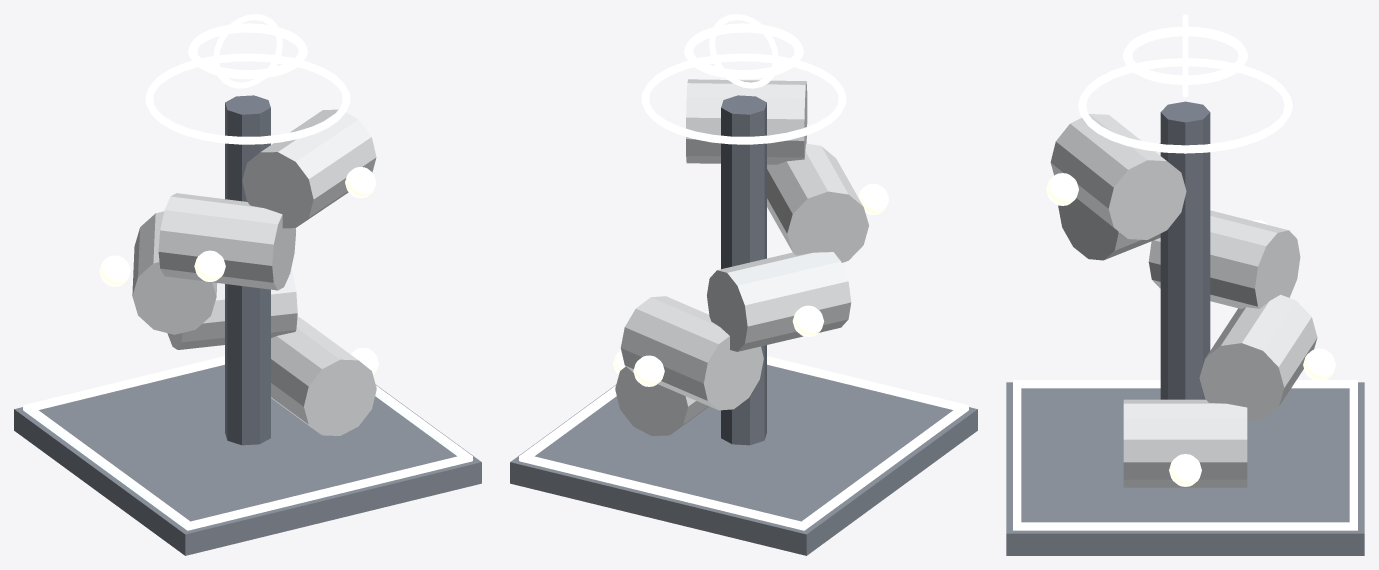
Rendered from staff_housing.glb.
3 renders of one model, left to right at view 1: azimuth 30°, elevation 25°; view 2: azimuth 150°, elevation 25°; view 3: azimuth 270°, elevation 25°, orthographic. The views are drawn at different scales.
Parts seen in each view (by area): view 1: Cube, Cylinder, Cylinder.004, Cylinder.005, Cylinder.001, Cylinder.003, Torus, Cylinder.002, Cube.001, Torus.001, Cube.002, Cube.003 (+5 smaller); view 2: Cube, Cylinder.003, Cylinder.002, Cylinder, Cylinder.004, Cylinder.005, Torus, Cylinder.001, Cube.003, Torus.001, Cube.002, Cube.001 (+5 smaller); view 3: Cube, Cylinder, Cylinder.005, Cylinder.001, Cylinder.002, Cylinder.003, Torus, Cube.004, Cylinder.004, Torus.001, Cube.002, Cube.001 (+5 smaller).
Boxes of the visible parts, x1,y1,x2,y2 form: Cube: (14, 364, 481, 555); Cylinder: (225, 95, 270, 445); Cylinder.004: (158, 193, 295, 290); Cylinder.005: (242, 109, 376, 228); Cylinder.001: (271, 317, 376, 435); Cylinder.003: (132, 211, 217, 334); Torus: (145, 53, 350, 144); Cylinder.002: (167, 269, 297, 349); Cube.001: (184, 455, 472, 530); Torus.001: (188, 23, 307, 79); Cube.002: (23, 404, 189, 530); Cube.003: (24, 356, 224, 409); Cube: (510, 364, 977, 555); Cylinder.003: (707, 252, 851, 351); Cylinder.002: (620, 296, 763, 410); Cylinder: (721, 95, 766, 445); Cylinder.004: (767, 143, 868, 262); Cylinder.005: (686, 79, 807, 164); Torus: (641, 53, 846, 144); Cylinder.001: (615, 366, 708, 435); Cube.003: (519, 453, 807, 530); Torus.001: (684, 23, 803, 79); Cube.002: (799, 405, 968, 530); Cube.001: (767, 356, 968, 409); Cube: (1006, 382, 1364, 555); Cylinder: (1160, 101, 1210, 399); Cylinder.005: (1050, 114, 1186, 239); Cylinder.001: (1123, 399, 1247, 487); Cylinder.002: (1199, 294, 1317, 422); Cylinder.003: (1148, 210, 1300, 308); Torus: (1078, 58, 1292, 153); Cube.004: (1013, 522, 1357, 530); Cylinder.004: (1058, 143, 1160, 260); Torus.001: (1123, 26, 1247, 84); Cube.002: (1014, 380, 1356, 388); Cube.001: (1013, 380, 1021, 530).
Size of the model in its own units: 2.6 by 3.71 by 2.6.
